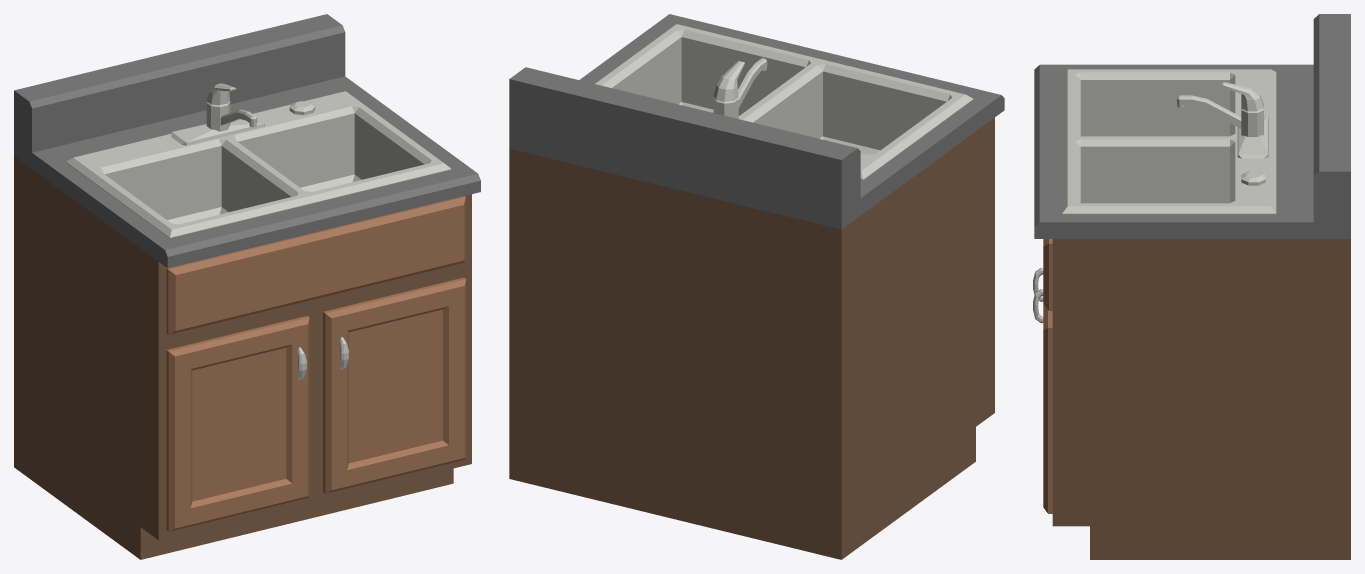
The model's file is Structure_Kitchen_Cabinet_Base_Sink.obj.
The picture shows the model from 3 angles, left to right: view 1: azimuth 30°, elevation 25°; view 2: azimuth 150°, elevation 25°; view 3: azimuth 270°, elevation 25°; orthographic projection. The views are drawn at different scales.
Visible parts, largest first — view 1: object7, object2, object6, object4, object1; view 2: object7, object2, object6; view 3: object7, object6, object2, object4.
Boxes of the visible parts, box(x1,y1,x2,y2) form: object7: box(14, 156, 471, 559); object2: box(14, 14, 480, 268); object6: box(66, 83, 451, 238); object4: box(323, 277, 466, 493); object1: box(166, 315, 309, 531); object7: box(509, 117, 994, 559); object2: box(509, 14, 1004, 229); object6: box(595, 24, 973, 179); object7: box(1043, 239, 1350, 559); object6: box(1062, 69, 1276, 214); object2: box(1034, 14, 1350, 238); object4: box(1043, 304, 1052, 513).
Size of the model in its own units: 1 by 1.18 by 0.8531.
